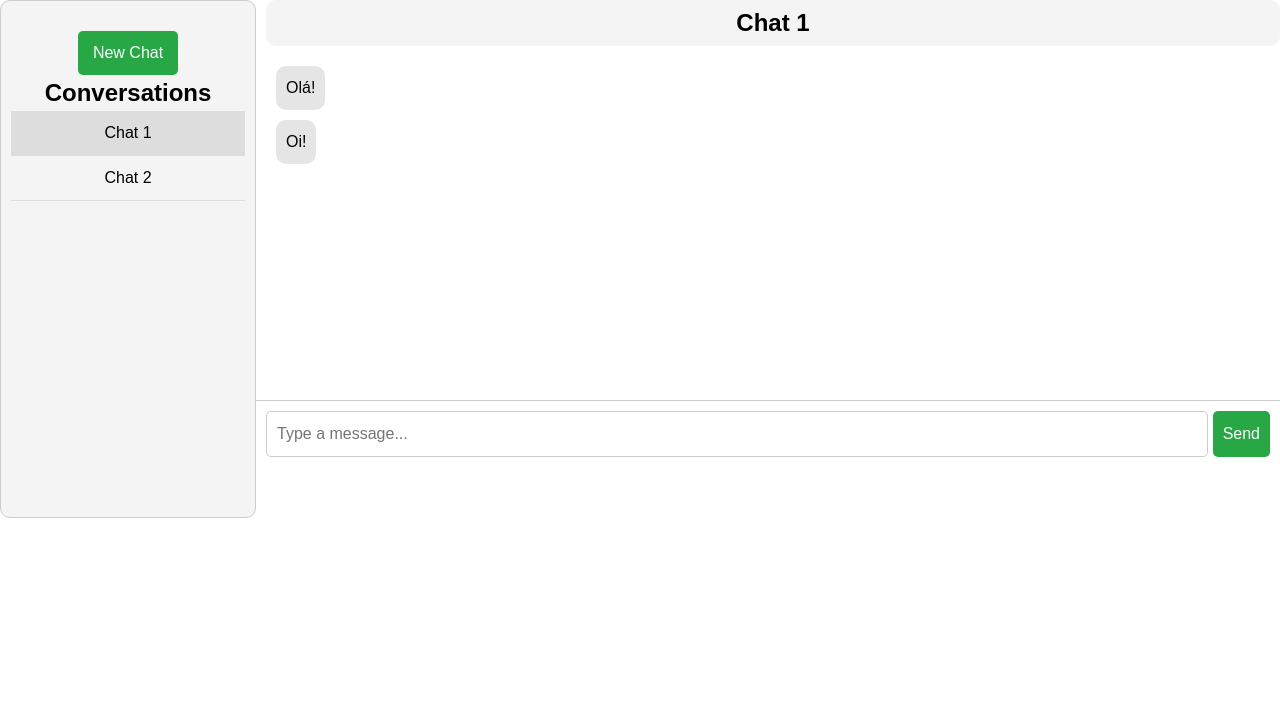
it: ChatPage › opens the user list when clicking the "New Chat" button
The image size is (1280, 720).
Click the button "New Chat" at (128, 53), box [78,31,178,75]
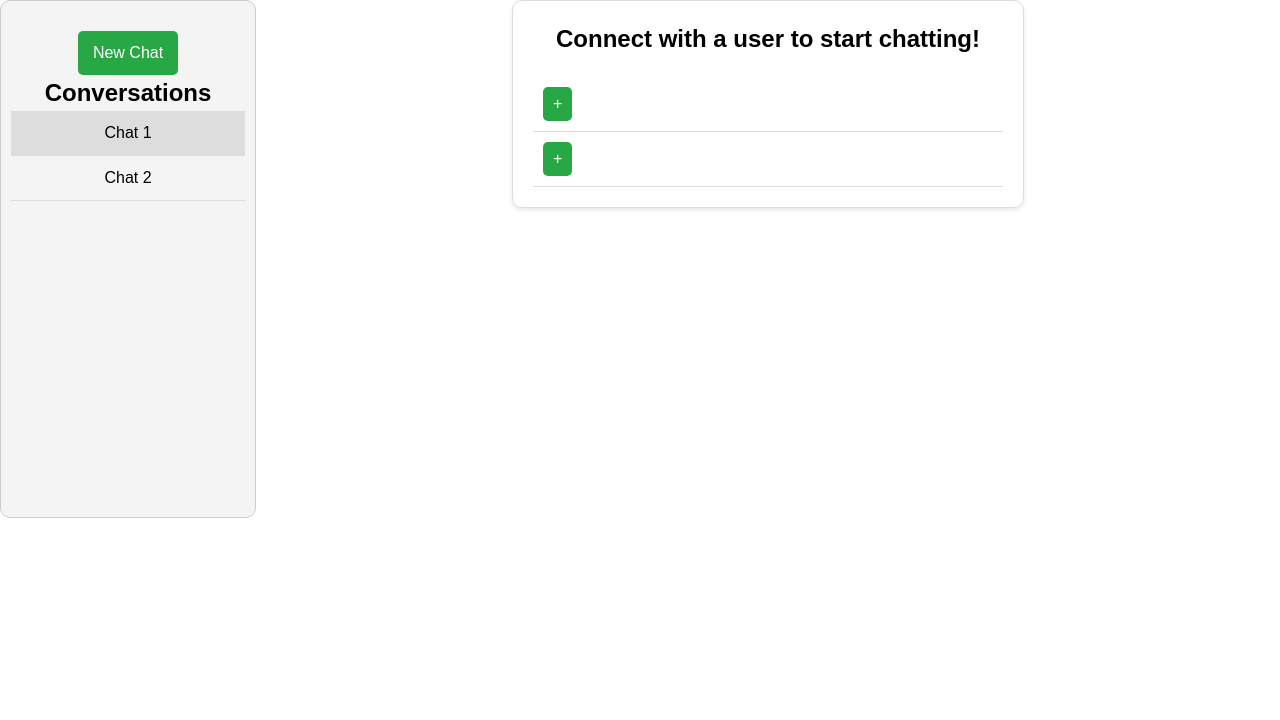
Check: the heading "Connect with a user to start chatting!" is shown, box [533,21,1003,57]
